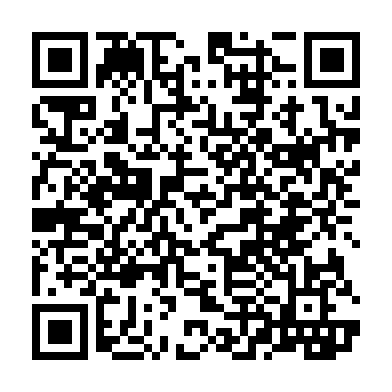QR_CODE: (24, 21, 368, 366)
